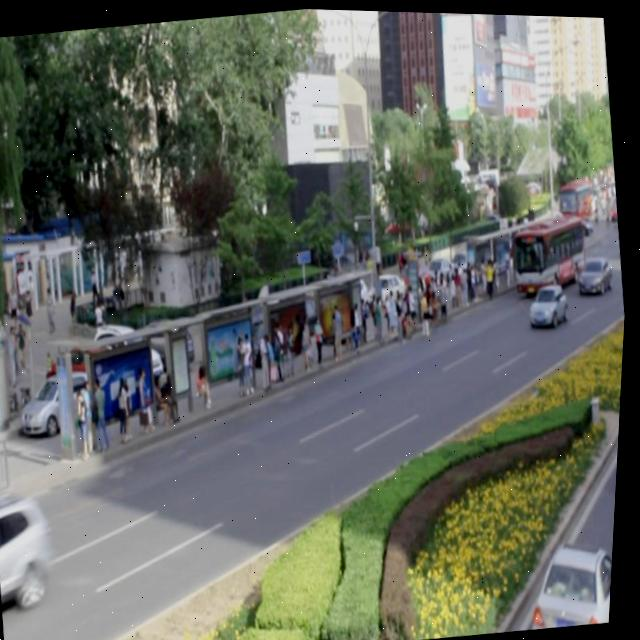car: (0, 486, 61, 609), (526, 276, 571, 323), (574, 247, 618, 293)
van: (508, 205, 591, 289)
